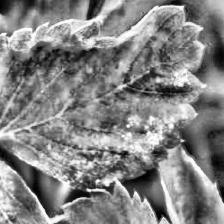Powdery Mildew Leaf: (0, 4, 207, 194), (0, 149, 75, 224)
